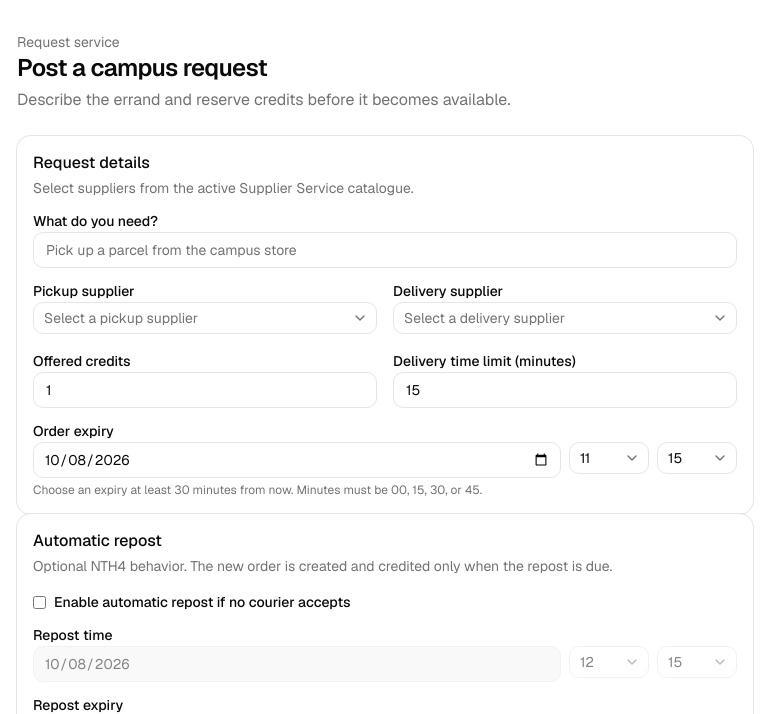
Test: request creation quarter-hour time integration › rejects a past expiry without posting
Type "2026-10-07" into the date field named "Order expiry date".
click(297, 460); type("2026-10-07")  # box 33,442 -> 561,478
(page scrolled)
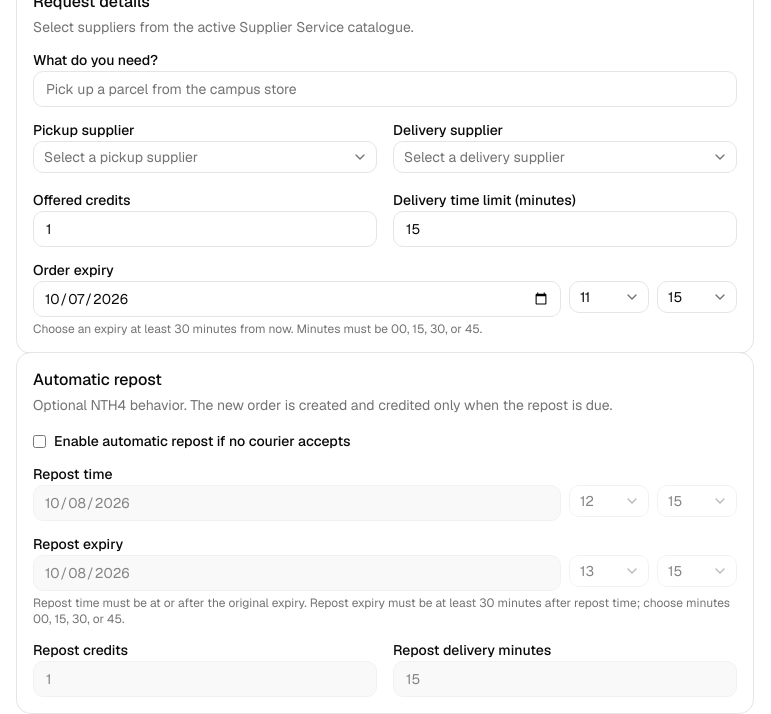
Submit the form named "Post request form"
(page scrolled)
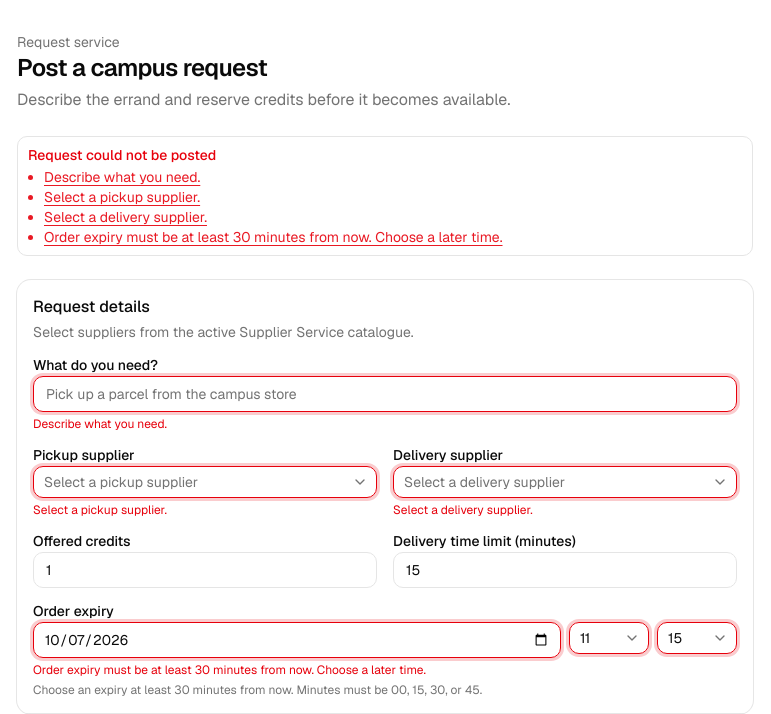
Now the message shows "Order expiry must be at least 30 minutes from now", box 44,228 -> 502,246
